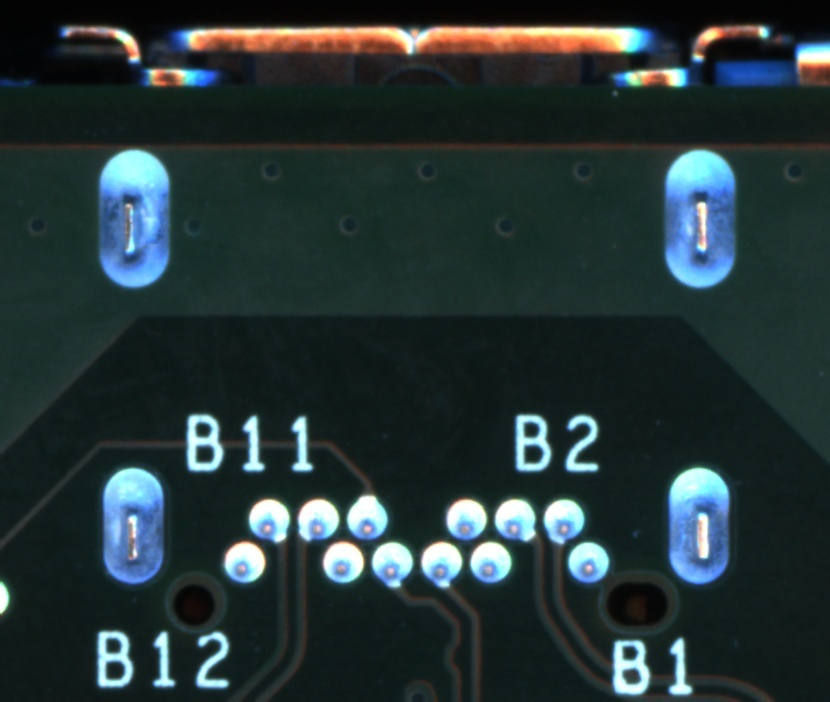SOLDER: (343, 494, 390, 541), (442, 495, 489, 542), (491, 496, 538, 543), (539, 497, 586, 544), (563, 540, 610, 587), (221, 541, 268, 587), (246, 496, 293, 542), (294, 496, 341, 542), (466, 539, 513, 585), (417, 541, 464, 587), (369, 541, 416, 587), (319, 541, 366, 587)
SOLDER2: (80, 137, 189, 305), (649, 440, 758, 608), (79, 439, 187, 607), (644, 135, 752, 303)
